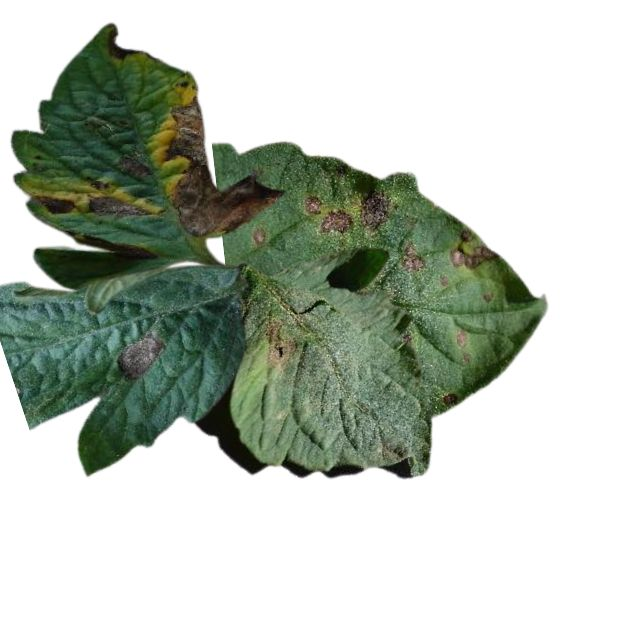Early_blight: (160, 92, 285, 236), (113, 328, 167, 378), (450, 226, 496, 272), (262, 319, 300, 372), (84, 194, 154, 216), (359, 190, 389, 231), (116, 152, 151, 180), (316, 210, 352, 237), (106, 29, 138, 57), (37, 194, 76, 216), (401, 241, 424, 274), (300, 195, 320, 216), (252, 226, 267, 245), (442, 390, 456, 409)
